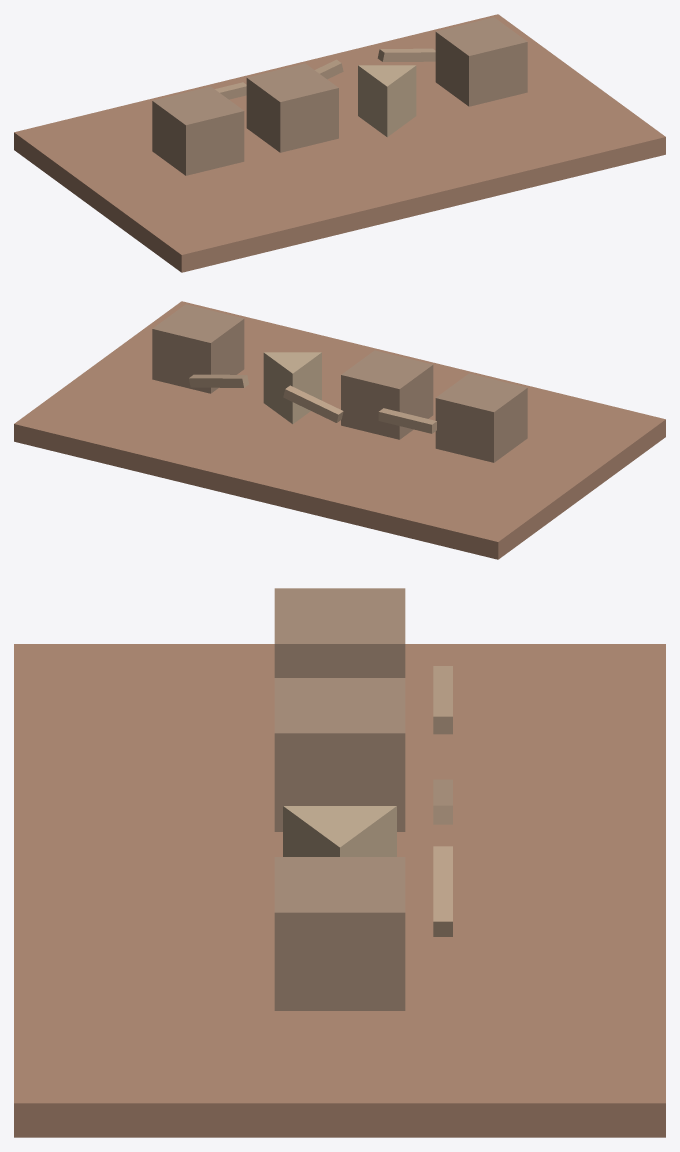
3 views of the same model, one above another, from view 1: azimuth 30°, elevation 25°; view 2: azimuth 150°, elevation 25°; view 3: azimuth 270°, elevation 25° (orthographic). The views are drawn at different scales.
Parts seen in each view (by area): view 1: substrate: concentrating solar power mirror, [01] source (emitter / external illuminator), [02] transport medium (free-space / fiber / tissue), [04] thermal path and safety interlocks, [03] receiver / conversion element, flow 3 -> 4; view 2: substrate: concentrating solar power mirror, [01] source (emitter / external illuminator), [04] thermal path and safety interlocks, [02] transport medium (free-space / fiber / tissue), [03] receiver / conversion element, flow 2 -> 3, flow 1 -> 2, flow 3 -> 4; view 3: substrate: concentrating solar power mirror, [04] thermal path and safety interlocks, [02] transport medium (free-space / fiber / tissue), [01] source (emitter / external illuminator), [03] receiver / conversion element, flow 3 -> 4, flow 1 -> 2, flow 2 -> 3.
Part boxes in pixels (x1=…): substrate: concentrating solar power mirror: x1=14, y1=14, x2=665, y2=272; [01] source (emitter / external illuminator): x1=152, y1=86, x2=244, y2=175; [02] transport medium (free-space / fiber / tissue): x1=246, y1=63, x2=338, y2=152; [04] thermal path and safety interlocks: x1=435, y1=17, x2=527, y2=106; [03] receiver / conversion element: x1=358, y1=65, x2=416, y2=137; flow 3 -> 4: x1=377, y1=48, x2=435, y2=61; substrate: concentrating solar power mirror: x1=14, y1=301, x2=665, y2=559; [01] source (emitter / external illuminator): x1=435, y1=373, x2=527, y2=462; [04] thermal path and safety interlocks: x1=152, y1=304, x2=244, y2=393; [02] transport medium (free-space / fiber / tissue): x1=341, y1=350, x2=433, y2=439; [03] receiver / conversion element: x1=263, y1=352, x2=321, y2=424; flow 2 -> 3: x1=283, y1=385, x2=343, y2=422; flow 1 -> 2: x1=378, y1=408, x2=436, y2=433; flow 3 -> 4: x1=189, y1=374, x2=248, y2=387; substrate: concentrating solar power mirror: x1=14, y1=644, x2=665, y2=1137; [04] thermal path and safety interlocks: x1=274, y1=857, x2=405, y2=1010; [02] transport medium (free-space / fiber / tissue): x1=274, y1=678, x2=405, y2=831; [01] source (emitter / external illuminator): x1=274, y1=588, x2=405, y2=677; [03] receiver / conversion element: x1=283, y1=806, x2=396, y2=856; flow 3 -> 4: x1=433, y1=846, x2=452, y2=936; flow 1 -> 2: x1=433, y1=666, x2=452, y2=734; flow 2 -> 3: x1=433, y1=779, x2=452, y2=824.
Size of the model in its own units: 10 by 1.6 by 6.
